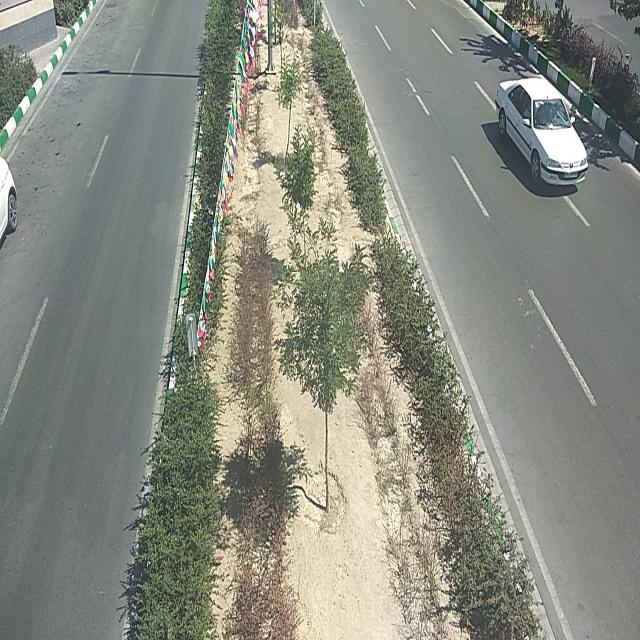car: (495, 76, 589, 190)
